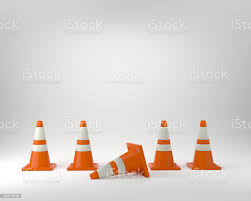cones: (88, 142, 150, 180), (187, 119, 223, 171), (20, 123, 57, 173), (148, 120, 182, 173), (64, 121, 96, 171)
